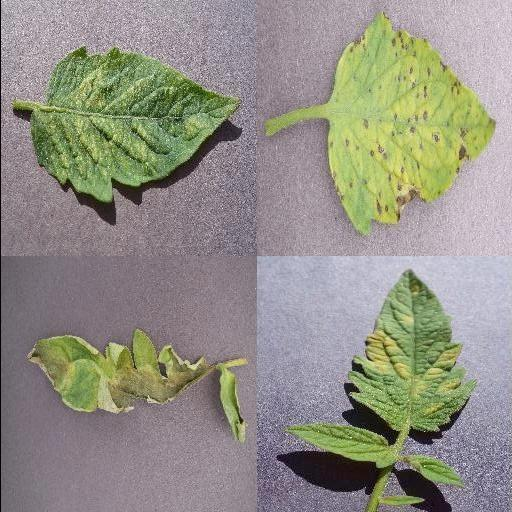Healthy: (288, 423, 390, 467)
Late Blight: (28, 327, 214, 415), (217, 371, 247, 443)
Leaf Mold: (346, 267, 478, 433)
Septoria: (326, 17, 496, 236)
Spider Mites: (32, 48, 242, 205)
